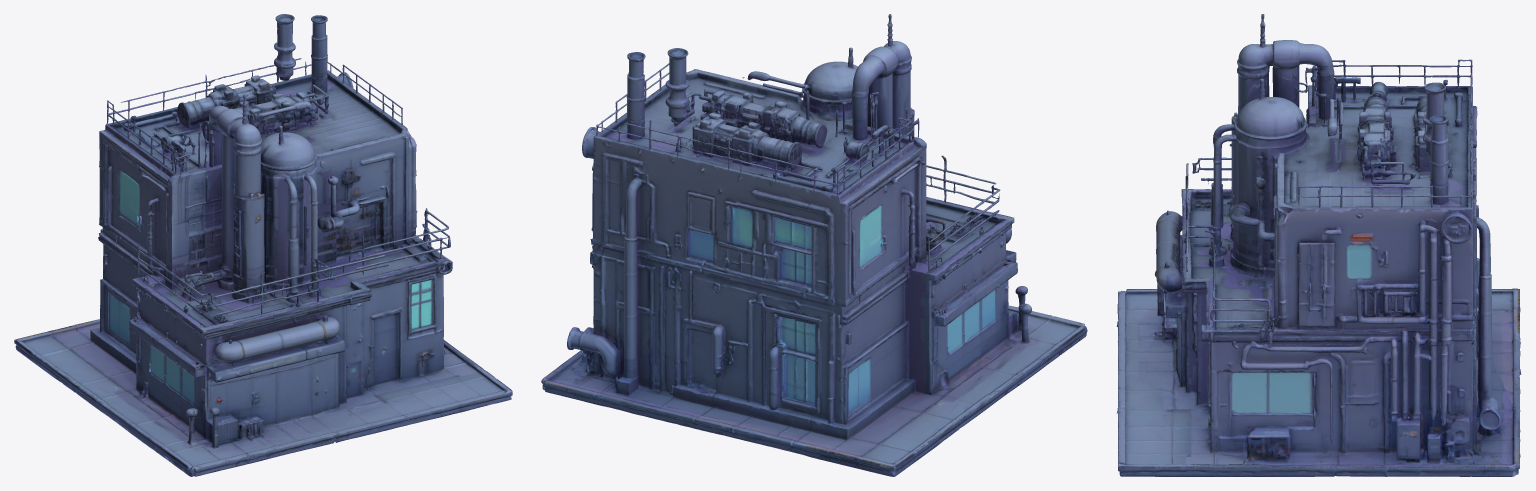
The model's file is factory_1.glb.
3 renders of one model, left to right at view 1: azimuth 30°, elevation 25°; view 2: azimuth 150°, elevation 25°; view 3: azimuth 270°, elevation 25°, orthographic. The views are drawn at different scales.
Size of the model in its own units: 2 by 1.83 by 1.91.
Materials: 1 (1 with a texture image).
